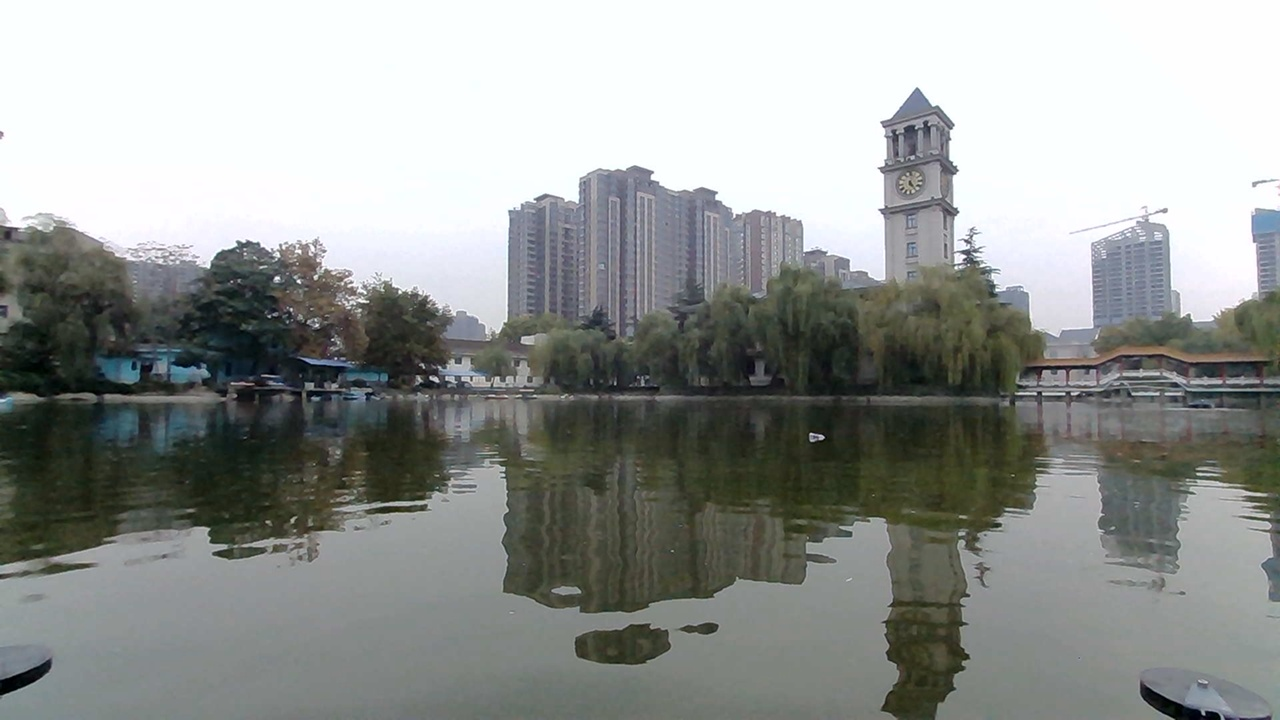bottle: (803, 418, 842, 448)
